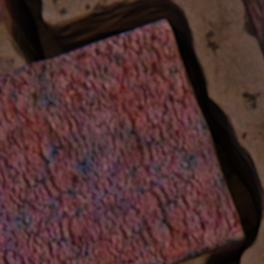brick: (0, 21, 244, 263), (242, 0, 263, 57)
broken_brick: (0, 3, 7, 23)
crack: (0, 0, 262, 263)
